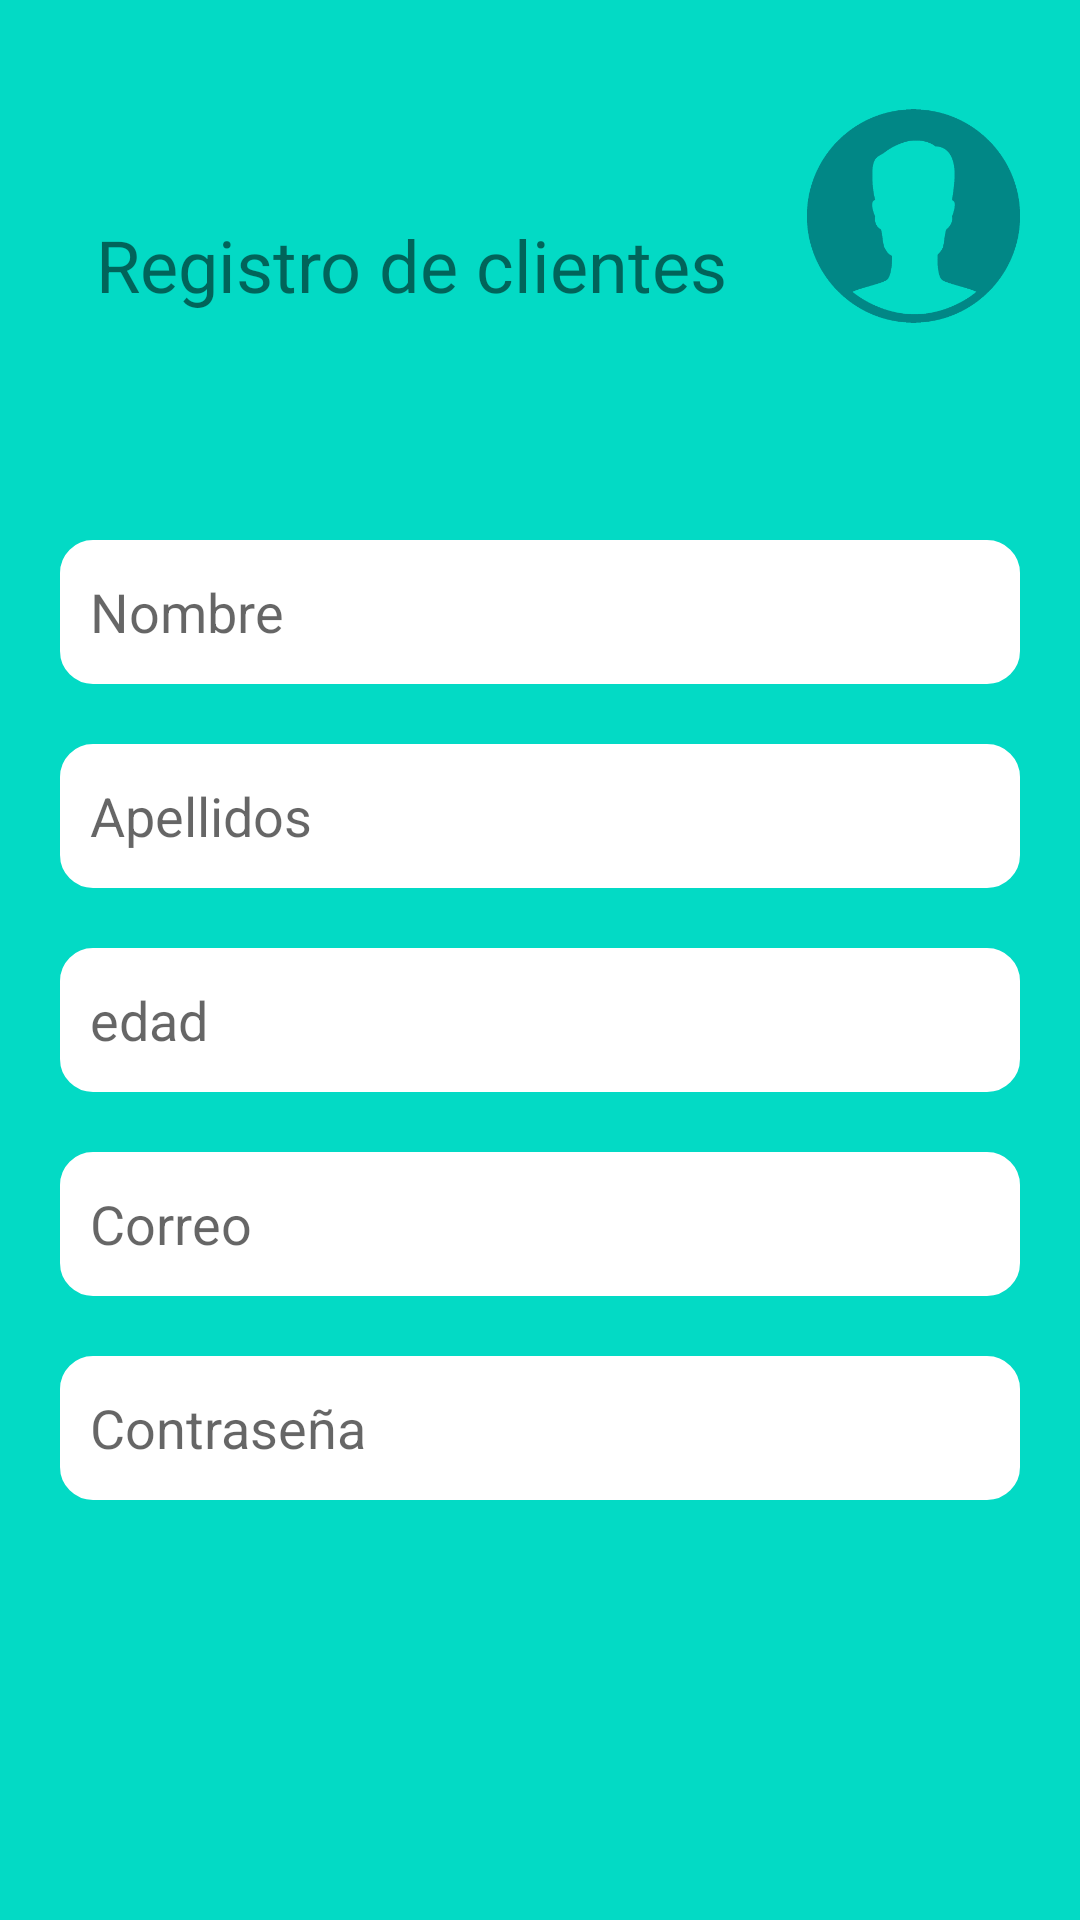

Named icons in this screenshot (1080x1920) and their bounding boxes, (x1, y1, x2, y2):
persona anonima: (807, 109, 1020, 323)
